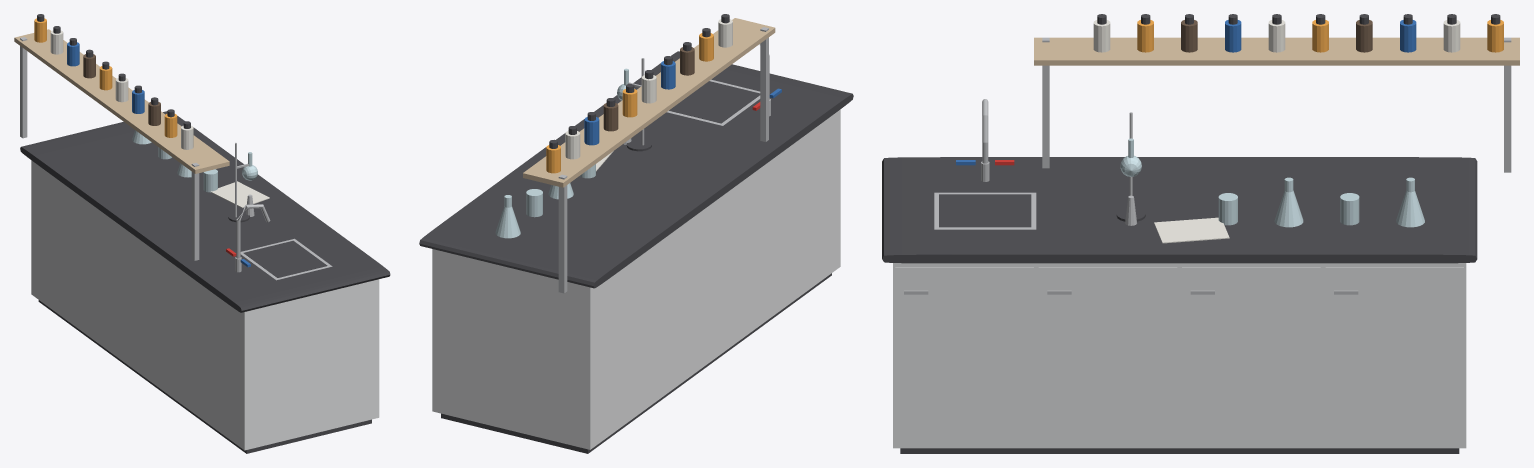
Rendered from SM_Prop_LabBench.fbx.
3 renders of one model, left to right at view 1: azimuth 30°, elevation 25°; view 2: azimuth 150°, elevation 25°; view 3: azimuth 270°, elevation 25°, orthographic. The views are drawn at different scales.
Parts seen in each view (by area): view 1: SM_Prop_LabBench; view 2: SM_Prop_LabBench; view 3: SM_Prop_LabBench.
Part boxes in pixels (x1,y1,x2,y2): SM_Prop_LabBench: (14,14,390,453); SM_Prop_LabBench: (419,14,853,453); SM_Prop_LabBench: (882,14,1519,453).
Size of the model in its own units: 2.62 by 0.95 by 1.66.
